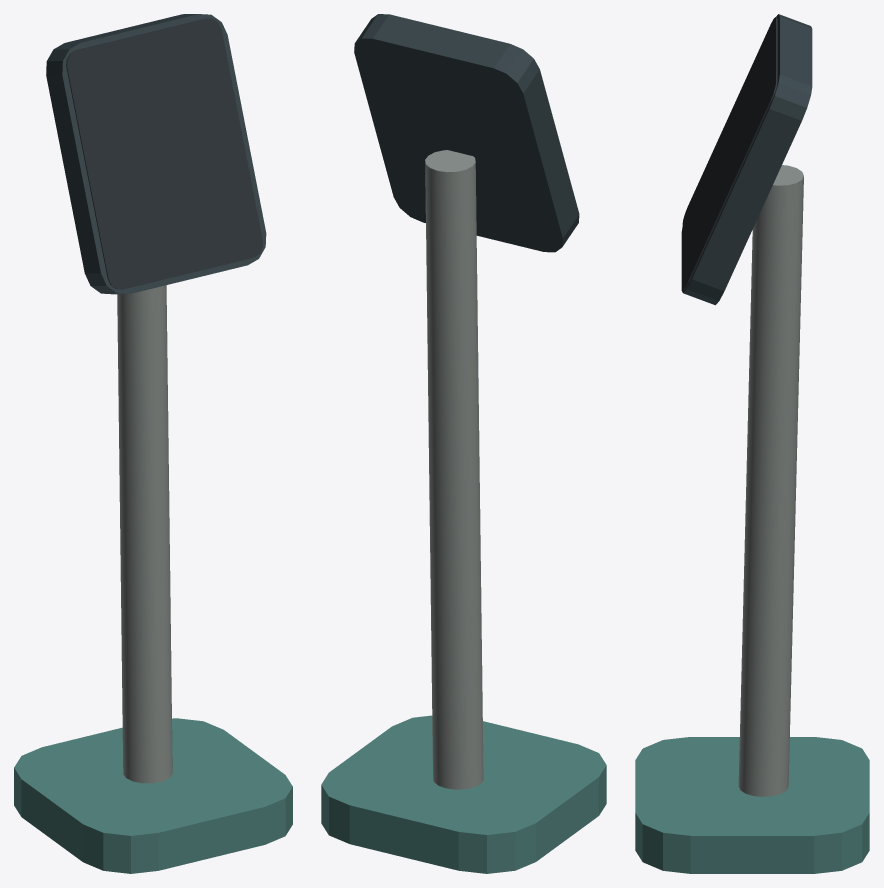
Rendered from kit_tablet_stand_v1.glb.
3 views of the same model, side by side, from view 1: azimuth 30°, elevation 25°; view 2: azimuth 150°, elevation 25°; view 3: azimuth 270°, elevation 25° (orthographic). The views are drawn at different scales.
Visible parts, largest first — view 1: body, screen; view 2: body; view 3: body, screen.
Part boxes in pixels (x1=…): body: x1=14, y1=14, x2=292, y2=873; screen: x1=66, y1=18, x2=262, y2=289; body: x1=321, y1=14, x2=606, y2=873; body: x1=635, y1=14, x2=869, y2=873; screen: x1=682, y1=17, x2=777, y2=289.
Size of the model in its own units: 0.3 by 1.1 by 0.3.
